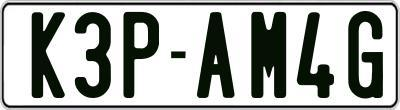3: (75, 9, 114, 96)
4: (295, 9, 334, 101)
A: (195, 11, 233, 100)
G: (346, 8, 383, 101)
K: (29, 10, 67, 96)
M: (249, 10, 286, 96)
P: (123, 10, 159, 99)
